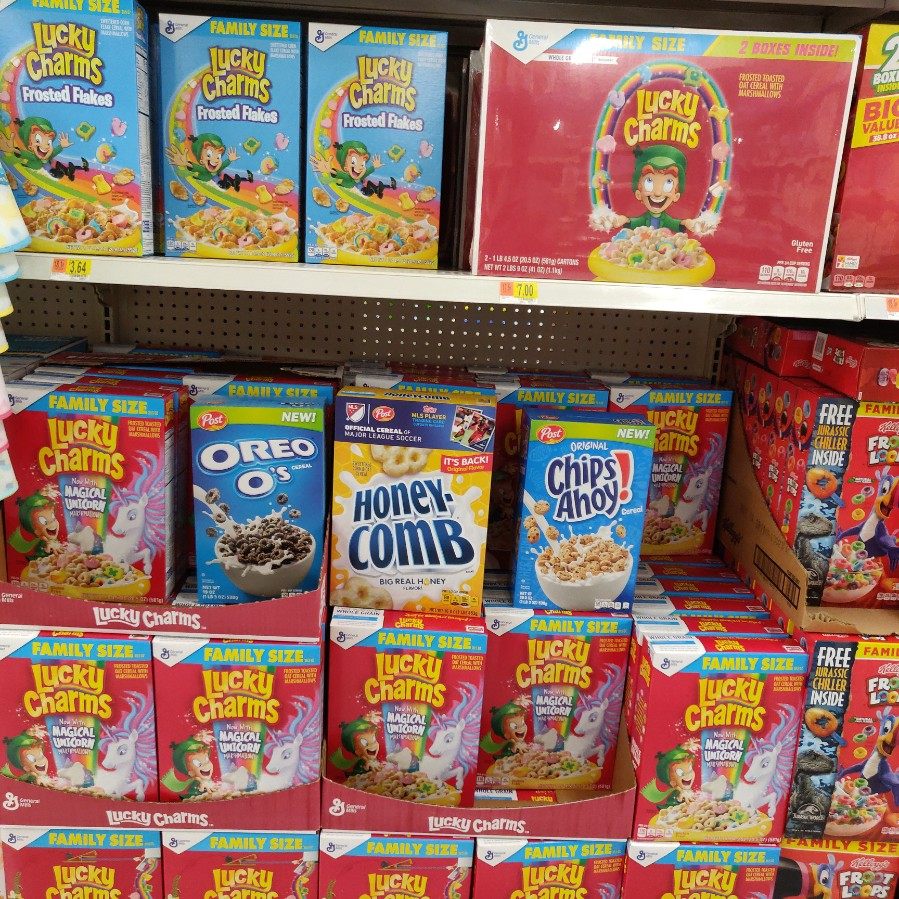Chips Ahoys-565717529: (512, 419, 658, 620)
Honey Comb- 009288857: (331, 387, 492, 612)
Oreo-563424384: (189, 401, 325, 600)
